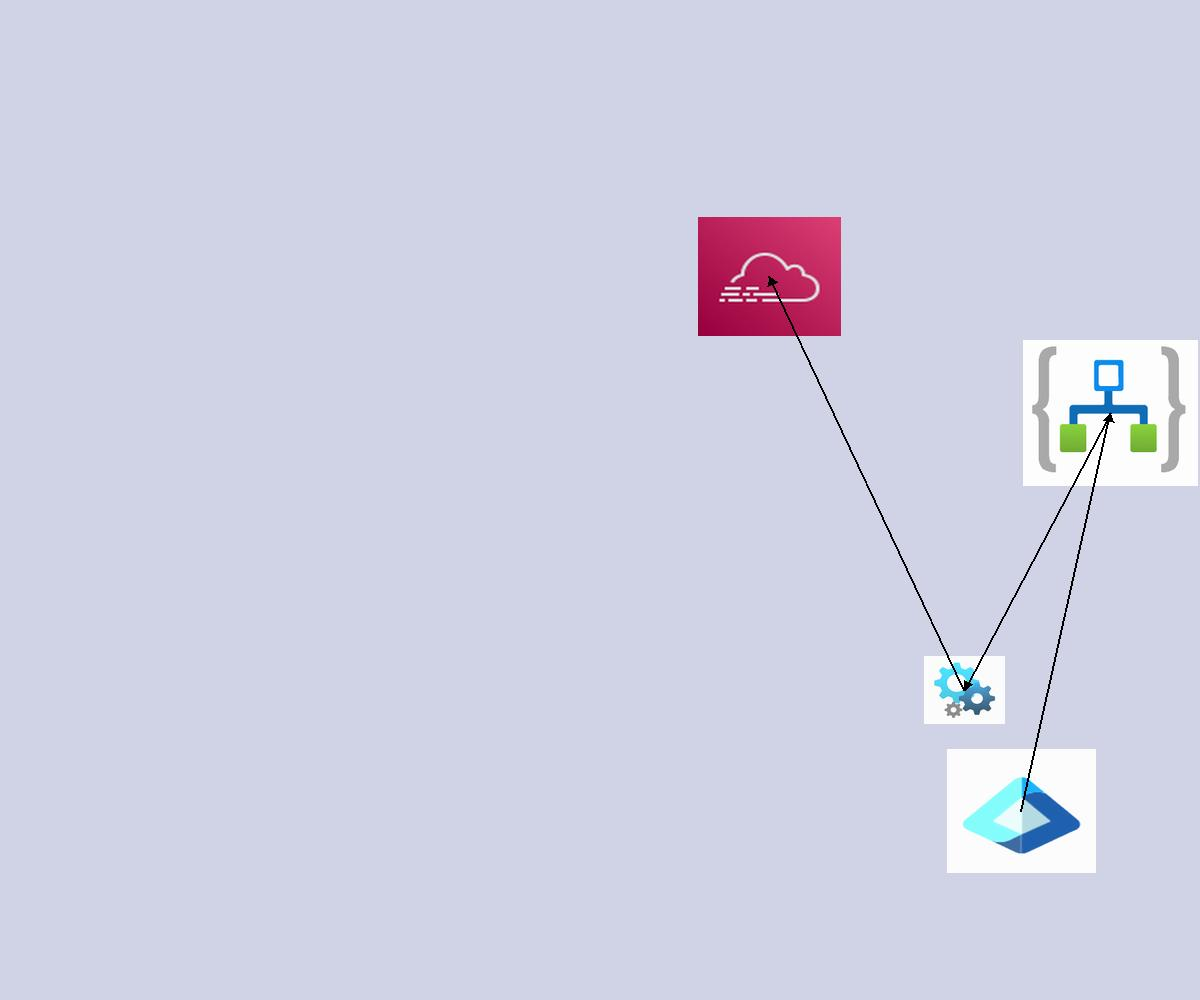AWS-CloudTrail: (698, 217, 841, 336)
Azure_api: (924, 656, 1005, 724)
Azure_integration-204-Logic-Apps: (1023, 340, 1198, 486)
Azure_microsoft_entra: (947, 749, 1096, 873)
